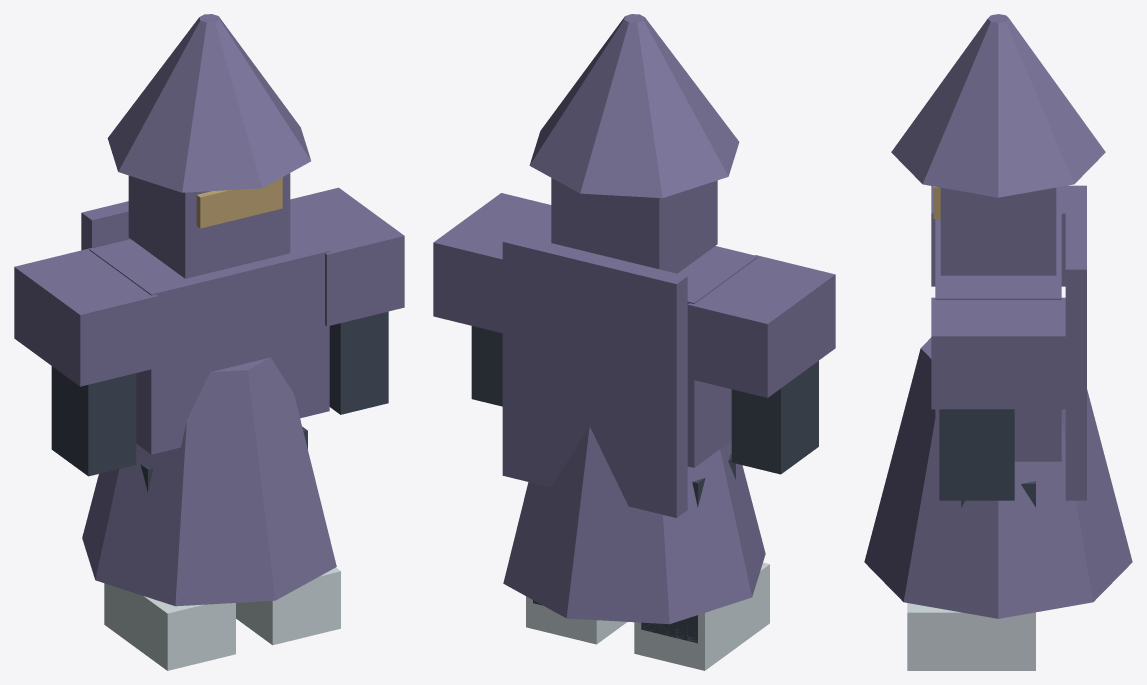
Rendered from mage.glb.
3 renders of one model, left to right at view 1: azimuth 30°, elevation 25°; view 2: azimuth 150°, elevation 25°; view 3: azimuth 270°, elevation 25°, orthographic. The views are drawn at different scales.
Visible parts, largest first — view 1: Robe, Chest.002, Mage hood, Shoulder.005, Shoulder.004, Helmet.002, Arm.005, Boot.005, Arm.004, Boot.004, Visor.002, Mantle; view 2: Mantle, Robe, Mage hood, Shoulder.005, Helmet.002, Shoulder.004, Arm.005, Chest.002, Boot.005, Arm.004, Boot.004, Leg.005; view 3: Robe, Mage hood, Shoulder.004, Helmet.002, Boot.004, Arm.004, Mantle, Chest.002, Shoulder.005.
Boxes of the visible parts, <box> form: Robe: <box>82,357,336,606</box>; Chest.002: <box>89,222,329,454</box>; Mage hood: <box>107,14,310,192</box>; Shoulder.005: <box>14,248,157,386</box>; Shoulder.004: <box>290,187,404,326</box>; Helmet.002: <box>128,173,290,278</box>; Arm.005: <box>51,366,136,476</box>; Boot.005: <box>104,583,235,670</box>; Arm.004: <box>329,311,388,414</box>; Boot.004: <box>236,567,340,645</box>; Visor.002: <box>196,177,282,228</box>; Mantle: <box>81,201,130,250</box>; Mantle: <box>502,234,687,517</box>; Robe: <box>503,426,765,624</box>; Mage hood: <box>529,14,739,198</box>; Shoulder.005: <box>687,255,835,397</box>; Helmet.002: <box>551,178,717,273</box>; Shoulder.004: <box>433,193,551,333</box>; Arm.005: <box>731,361,818,474</box>; Chest.002: <box>537,229,758,467</box>; Boot.005: <box>634,562,769,670</box>; Arm.004: <box>471,326,502,406</box>; Boot.004: <box>526,596,626,644</box>; Leg.005: <box>641,454,735,643</box>; Robe: <box>864,337,1132,618</box>; Mage hood: <box>891,14,1105,197</box>; Shoulder.004: <box>931,297,1065,409</box>; Helmet.002: <box>940,187,1056,275</box>; Boot.004: <box>907,603,1035,670</box>; Arm.004: <box>939,409,1014,500</box>; Mantle: <box>1065,185,1086,500</box>; Chest.002: <box>935,210,1061,461</box>; Shoulder.005: <box>931,186,1065,286</box>.
Size of the model in its own units: 1.42 by 2.51 by 1.
